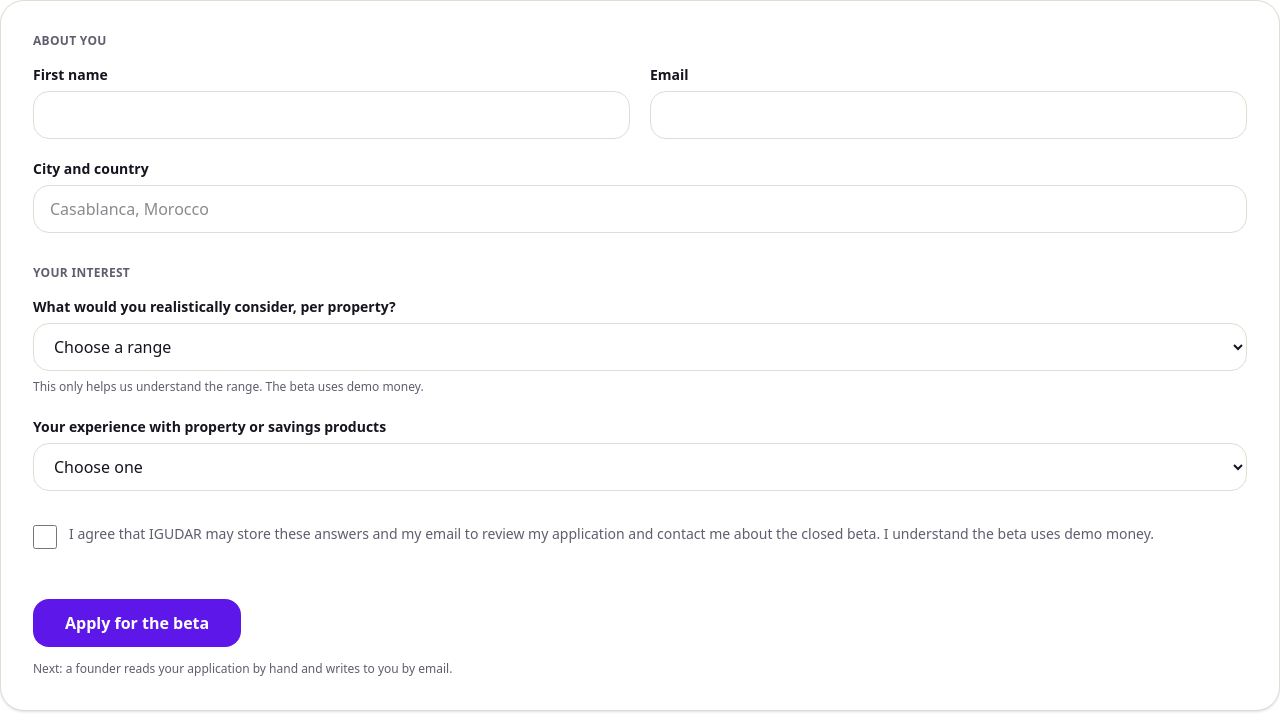
BetaApplicationForm › shows an inline error per missing field, sends nothing, and clears an error once the field is fixed
Click the button "Apply for the beta": (137, 622) x1=33 y1=598 x2=241 y2=646
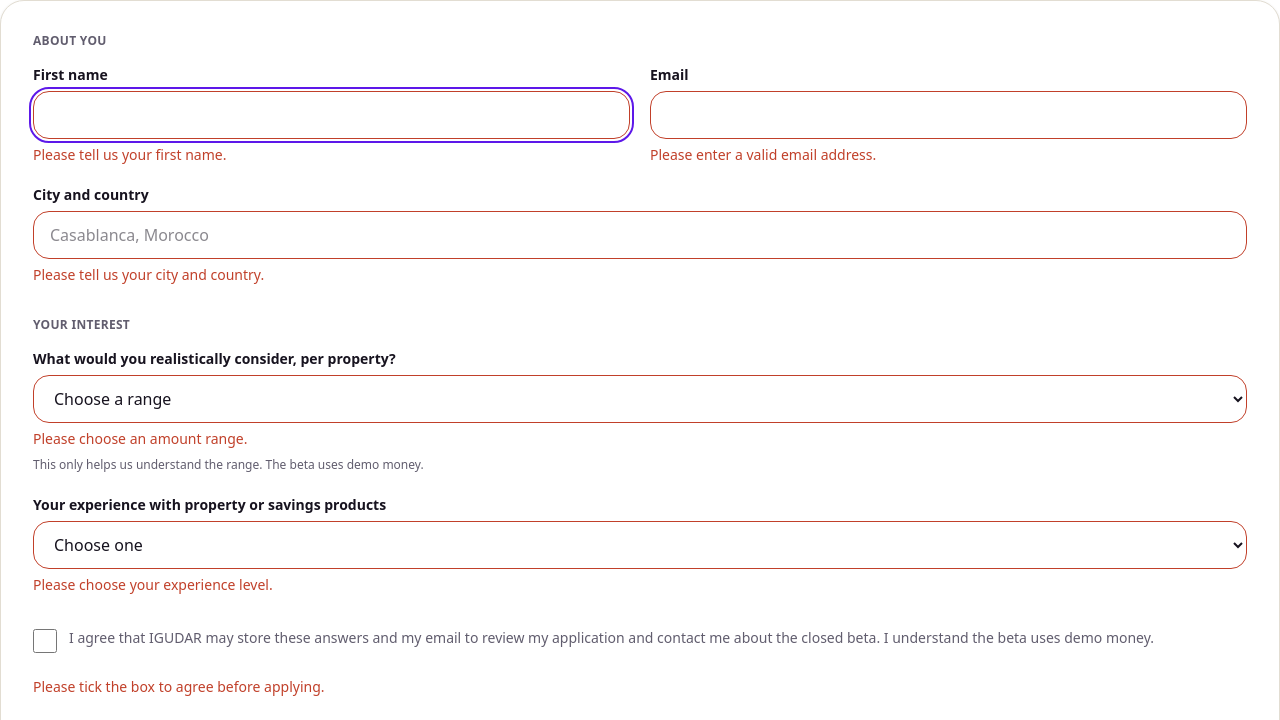
Check: the text "Please tell us your first name." is shown, box x1=33 y1=145 x2=226 y2=164
Check: the text "Please enter a valid email address." is shown, box x1=650 y1=145 x2=876 y2=164
Check: the text "Please tell us your city and country." is shown, box x1=33 y1=265 x2=264 y2=284
In the field labelled "First name": (332, 115) x1=33 y1=91 x2=630 y2=139, type "Salma"
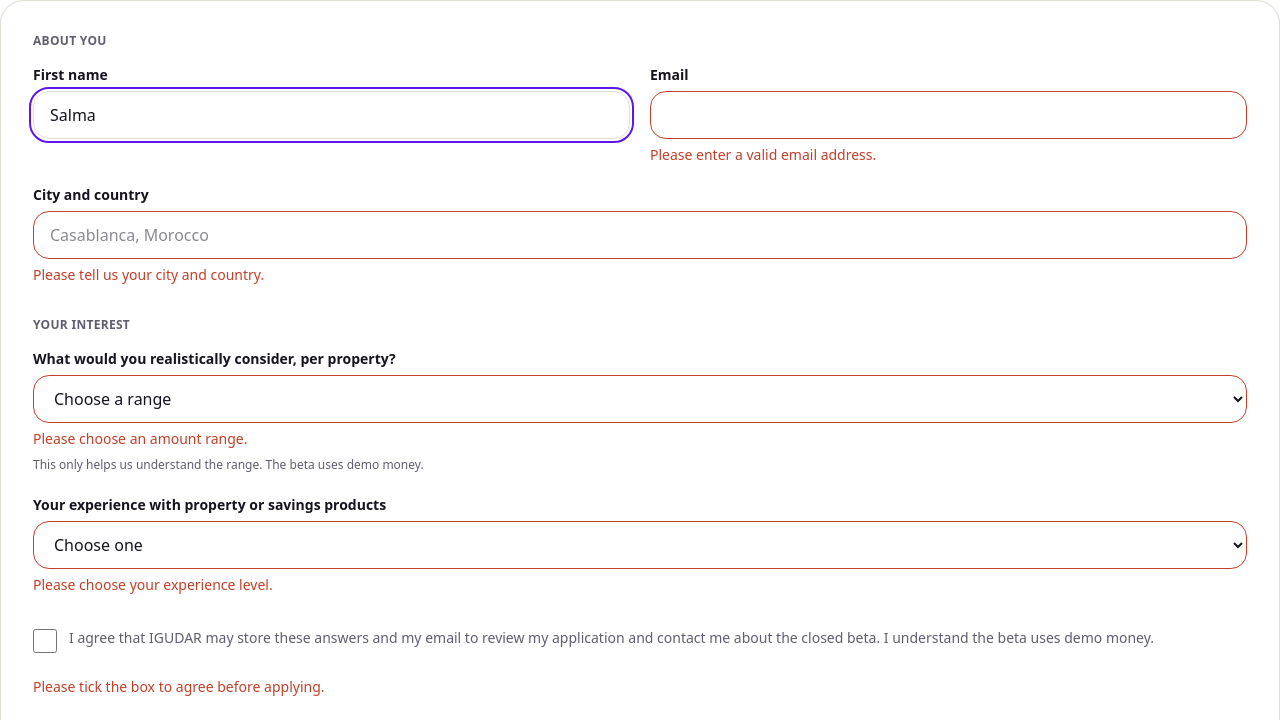
Check: the text "Please tell us your first name." is gone
